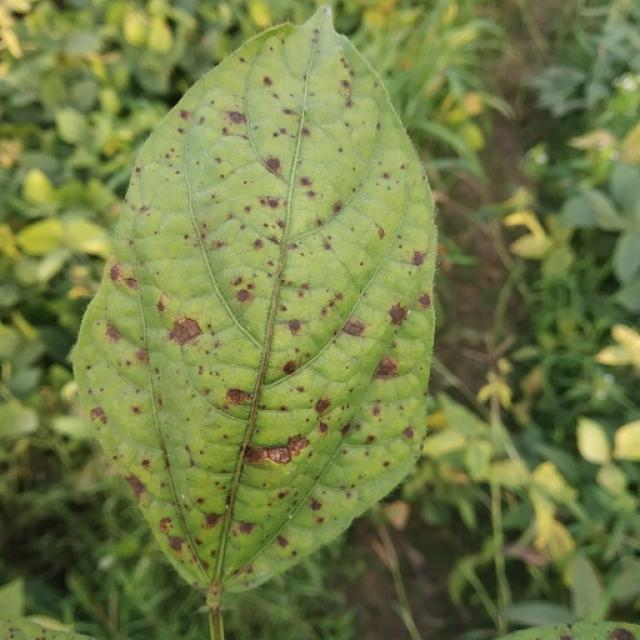Anthracnose: (168, 316, 203, 345), (108, 261, 138, 293), (382, 300, 410, 328), (373, 356, 399, 378), (124, 473, 146, 499), (262, 446, 291, 464), (287, 436, 309, 458), (244, 445, 269, 464), (341, 318, 367, 336), (225, 388, 250, 405), (104, 322, 123, 342), (607, 626, 634, 640), (263, 156, 281, 174), (166, 534, 184, 552), (227, 110, 247, 126), (206, 580, 222, 600), (203, 512, 222, 528), (236, 520, 256, 535), (314, 398, 331, 415), (89, 406, 106, 423), (309, 26, 321, 49), (109, 263, 123, 282), (411, 250, 427, 266), (235, 288, 252, 303), (159, 448, 170, 470), (416, 293, 431, 309), (287, 318, 302, 333), (282, 360, 297, 375), (159, 517, 173, 532), (266, 196, 282, 209), (135, 347, 148, 362), (402, 426, 415, 440), (339, 422, 352, 436), (276, 534, 289, 547), (322, 237, 333, 251), (376, 225, 386, 240), (331, 202, 343, 214), (310, 499, 322, 511), (178, 109, 190, 121), (300, 176, 312, 187), (262, 75, 273, 86), (252, 239, 263, 250), (341, 79, 351, 91), (224, 495, 234, 507), (372, 404, 382, 416), (365, 435, 376, 445), (276, 220, 285, 230), (131, 405, 141, 414), (278, 490, 287, 500), (559, 634, 573, 640), (565, 622, 574, 631), (382, 171, 390, 179)
Blackgram: (72, 6, 436, 638)
